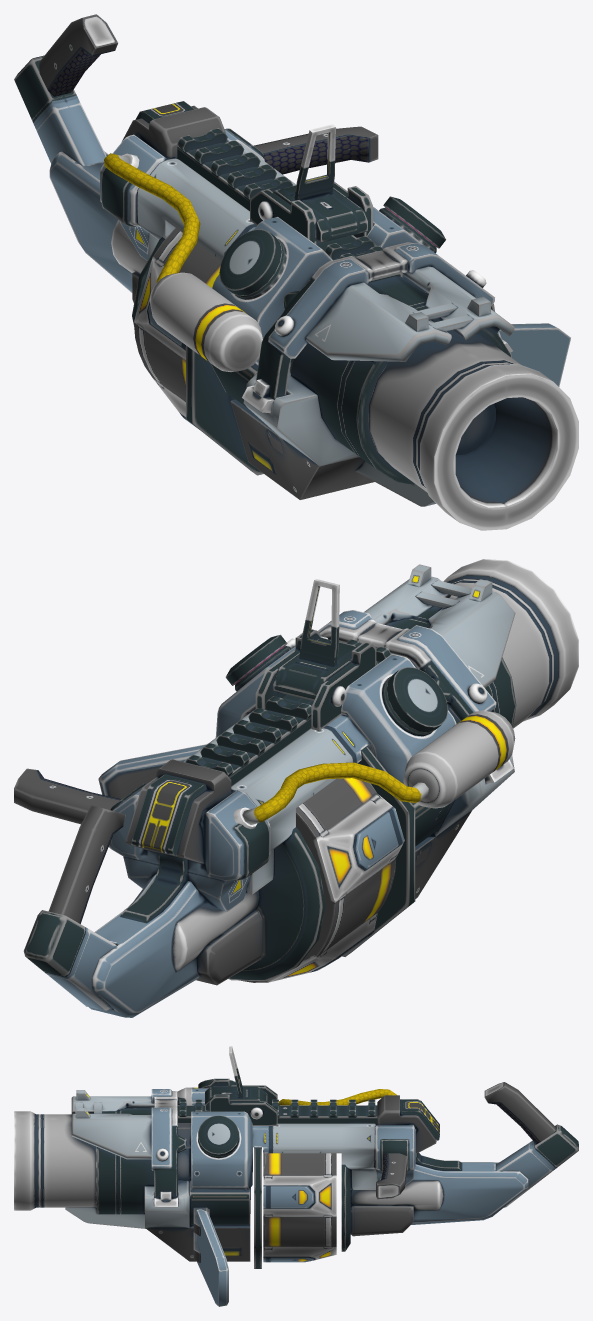
The model's file is Weapon_PlasmaRain.fbx.
3 views of the same model, one above another, from view 1: azimuth 30°, elevation 25°; view 2: azimuth 150°, elevation 25°; view 3: azimuth 270°, elevation 25° (orthographic). The views are drawn at different scales.
Visible parts, largest first — view 1: MainWeapon, Barrel, AmmoCylinder, Canister_02, Canister_01; view 2: MainWeapon, AmmoCylinder, Barrel, Canister_02, Canister_01; view 3: MainWeapon, AmmoCylinder, Barrel, Canister_01.
Boxes of the visible parts, x1=… form: MainWeapon: x1=14, y1=14, x2=570, y2=506; Barrel: x1=368, y1=330, x2=578, y2=530; AmmoCylinder: x1=134, y1=228, x2=221, y2=429; Canister_02: x1=219, y1=229, x2=282, y2=296; Canister_01: x1=383, y1=196, x2=445, y2=248; MainWeapon: x1=14, y1=564, x2=516, y2=1017; AmmoCylinder: x1=241, y1=778, x2=404, y2=982; Barrel: x1=443, y1=559, x2=578, y2=728; Canister_02: x1=386, y1=667, x2=448, y2=732; Canister_01: x1=225, y1=634, x2=287, y2=685; MainWeapon: x1=65, y1=1046, x2=578, y2=1306; AmmoCylinder: x1=263, y1=1153, x2=336, y2=1262; Barrel: x1=14, y1=1111, x2=96, y2=1210; Canister_01: x1=198, y1=1115, x2=239, y2=1156.
Bounding box in the file's own units: 65.82 × 56.49 × 140.
